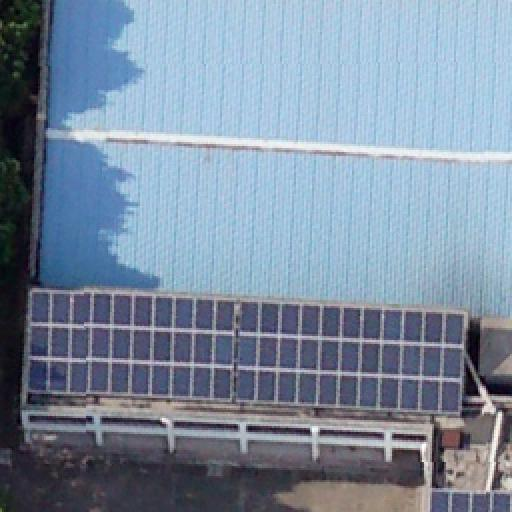solar-panel: (23, 288, 465, 416), (425, 486, 511, 512)
